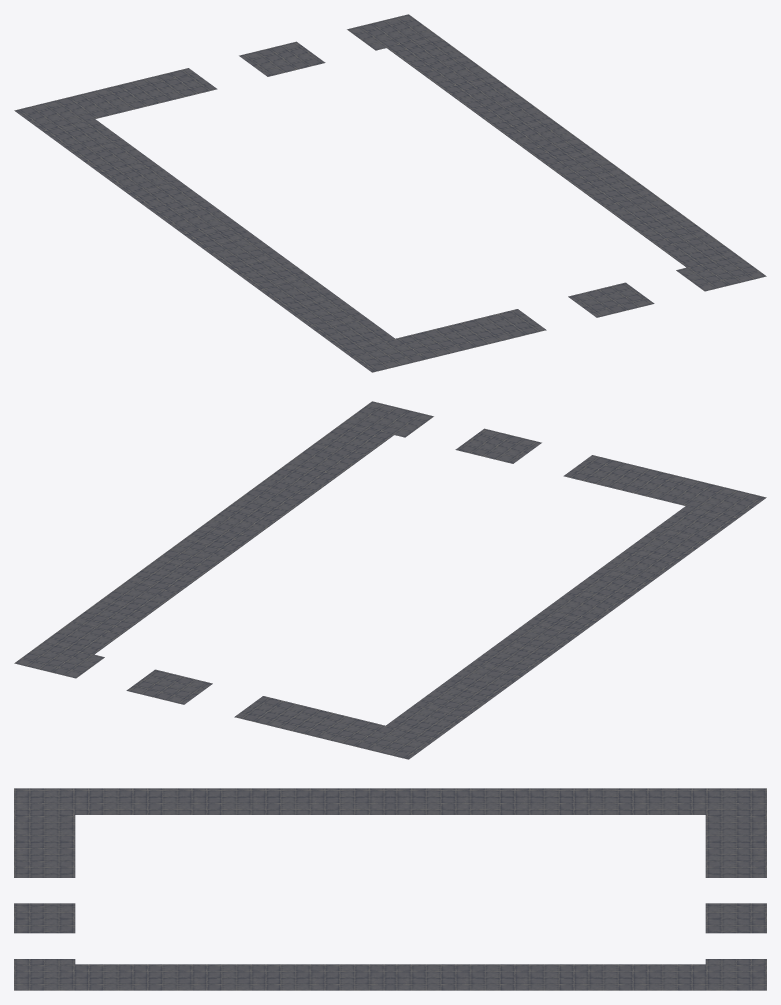
Rendered from SM_MCJ_StereobateA.fbx.
The picture shows the model from 3 angles, top to bottom: view 1: azimuth 30°, elevation 25°; view 2: azimuth 150°, elevation 25°; view 3: azimuth 270°, elevation 25°; orthographic projection. The views are drawn at different scales.
Parts seen in each view (by area): view 1: SM_MCJ_StereobateA; view 2: SM_MCJ_StereobateA; view 3: SM_MCJ_StereobateA.
Part boxes in pixels (x1,y1,x2,y2): SM_MCJ_StereobateA: (14, 14, 766, 372); SM_MCJ_StereobateA: (14, 401, 766, 759); SM_MCJ_StereobateA: (14, 788, 766, 990).
Size of the model in its own units: 1024 by 1609 by 0.000519.
Materials: 1 (1 with a texture image).
